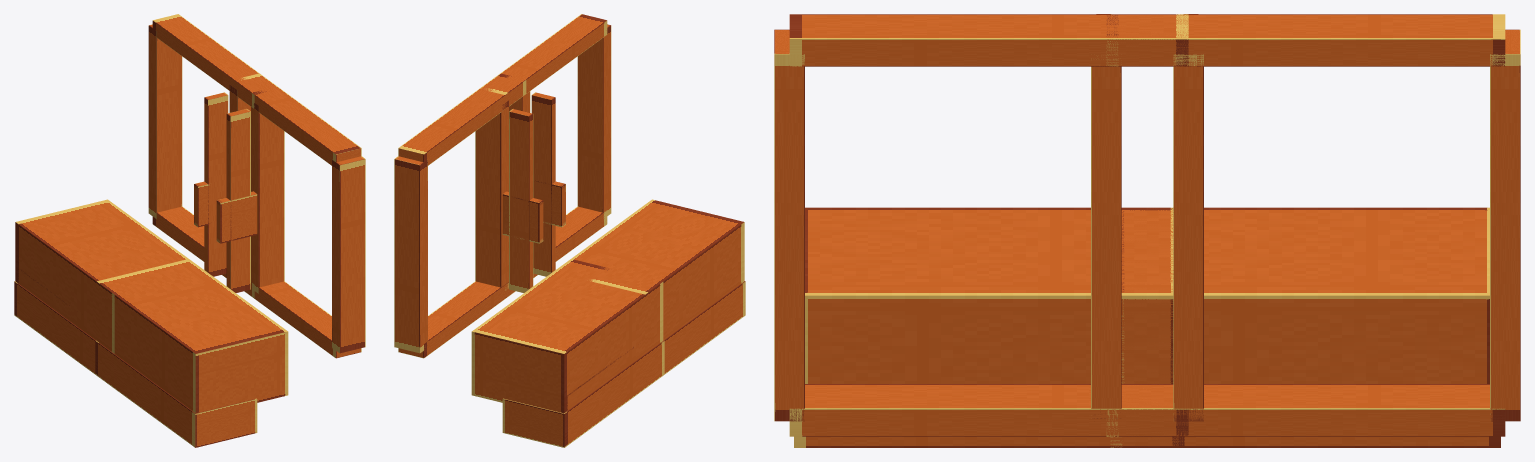
The model's file is bench_boots_1_hot.obj.
3 views of the same model, side by side, from view 1: azimuth 30°, elevation 25°; view 2: azimuth 150°, elevation 25°; view 3: azimuth 270°, elevation 25° (orthographic). The views are drawn at different scales.
Visible parts, largest first — view 1: geometry; view 2: geometry; view 3: geometry.
Part boxes in pixels (box(x1,y1,x2,y2)): geometry: box(14, 14, 365, 447); geometry: box(394, 14, 745, 447); geometry: box(774, 14, 1520, 447).
Bounding box in the file's own units: 0.1662 × 0.25 × 0.3331.
